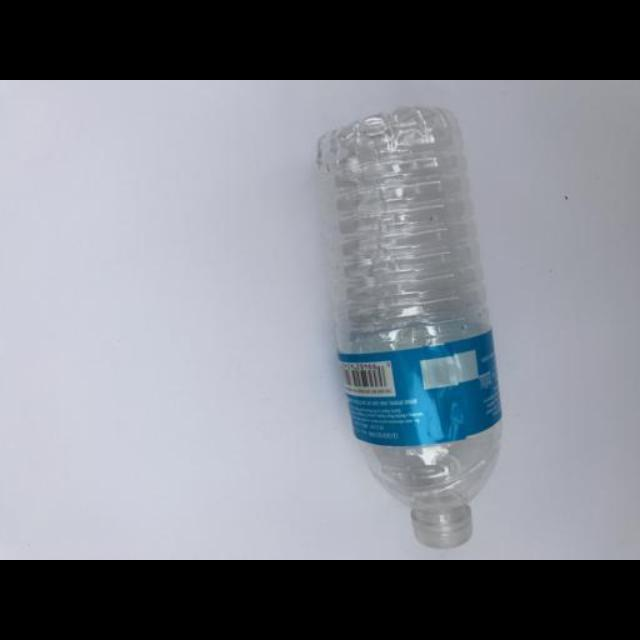garrafa plástica: (316, 104, 504, 510)
tampa plástica: (411, 501, 474, 547)
